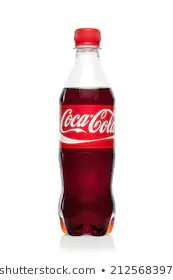coke-bottle-700ml: (56, 25, 117, 237)
